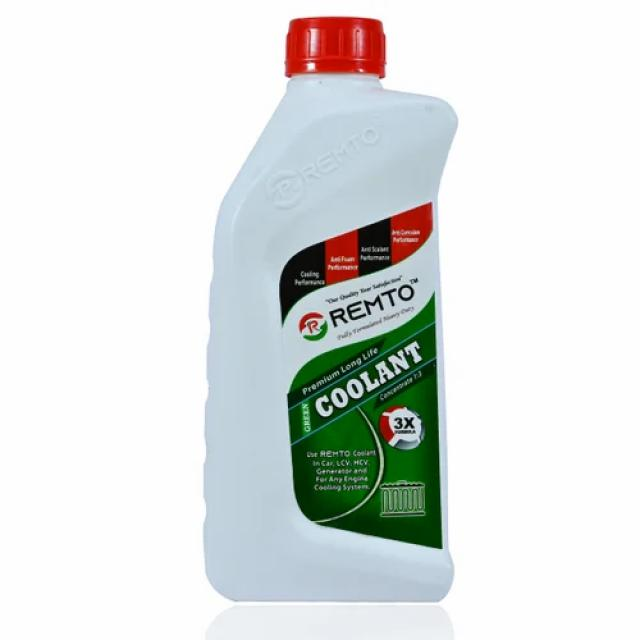coolant: (193, 9, 463, 608)
